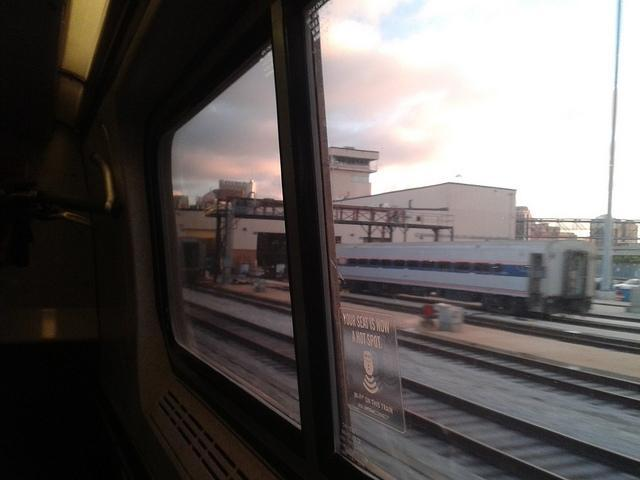car: (612, 278, 640, 290)
